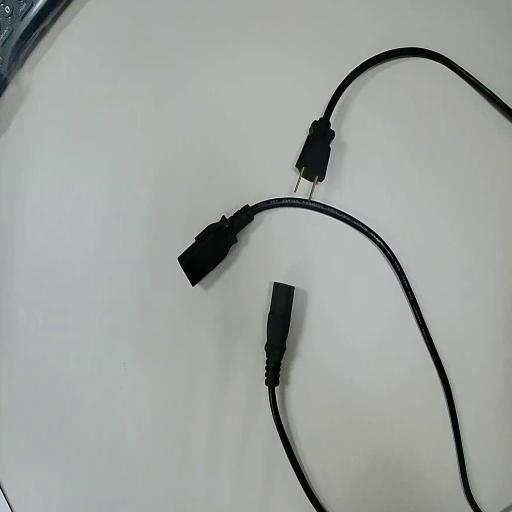wire: (179, 199, 480, 511), (297, 48, 511, 180), (266, 283, 325, 511)
